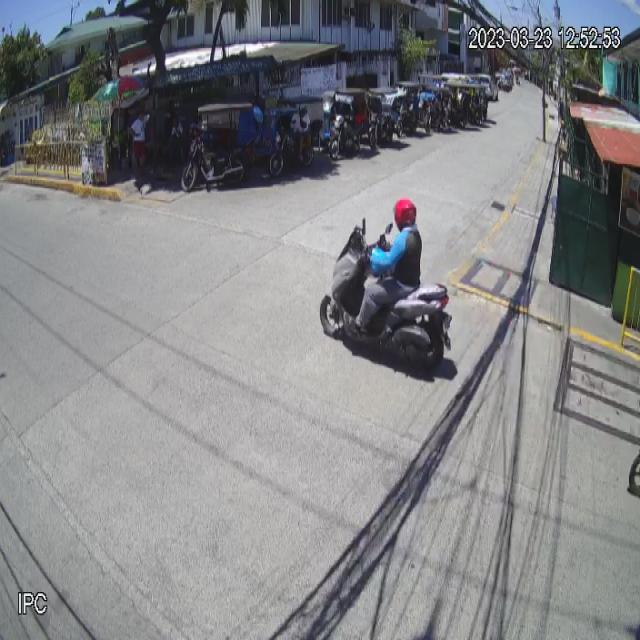Motorcycle: (318, 215, 454, 371)
